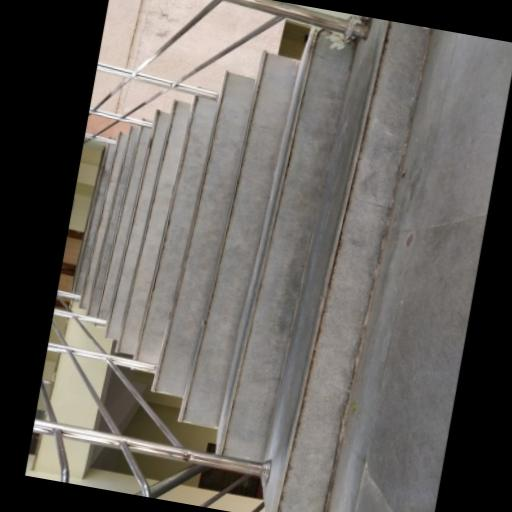stairs: (74, 18, 430, 511)
